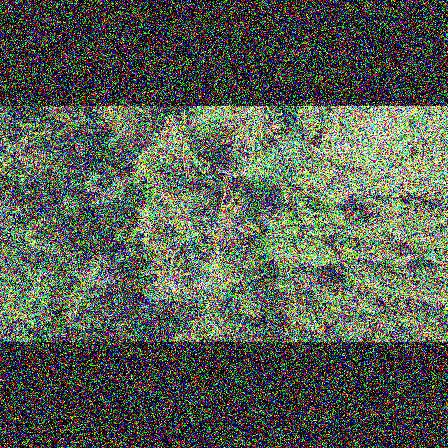Sick: (150, 260, 192, 303)
